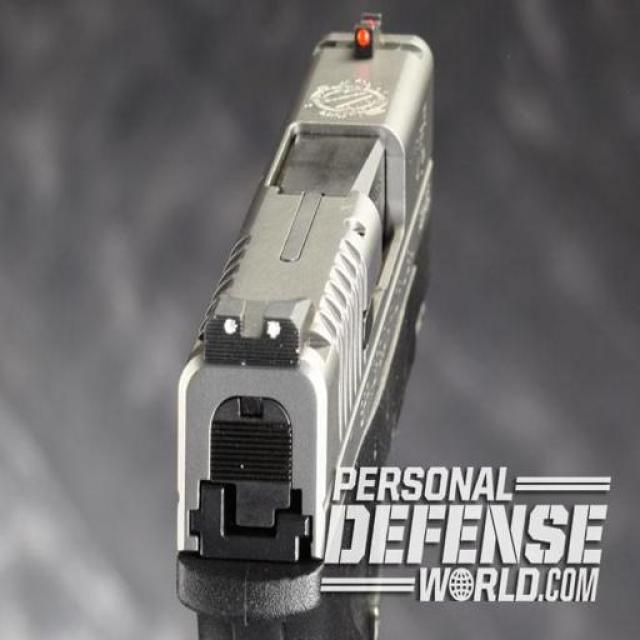pistol: (145, 1, 434, 637)
